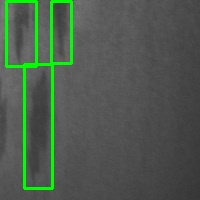inclusion: (24, 64, 52, 188), (6, 1, 36, 66), (51, 1, 71, 63)
